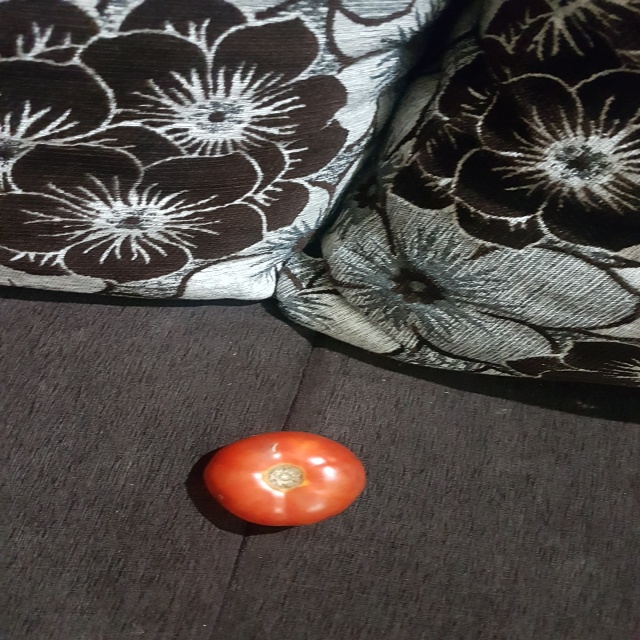tomato: (202, 422, 373, 538)
